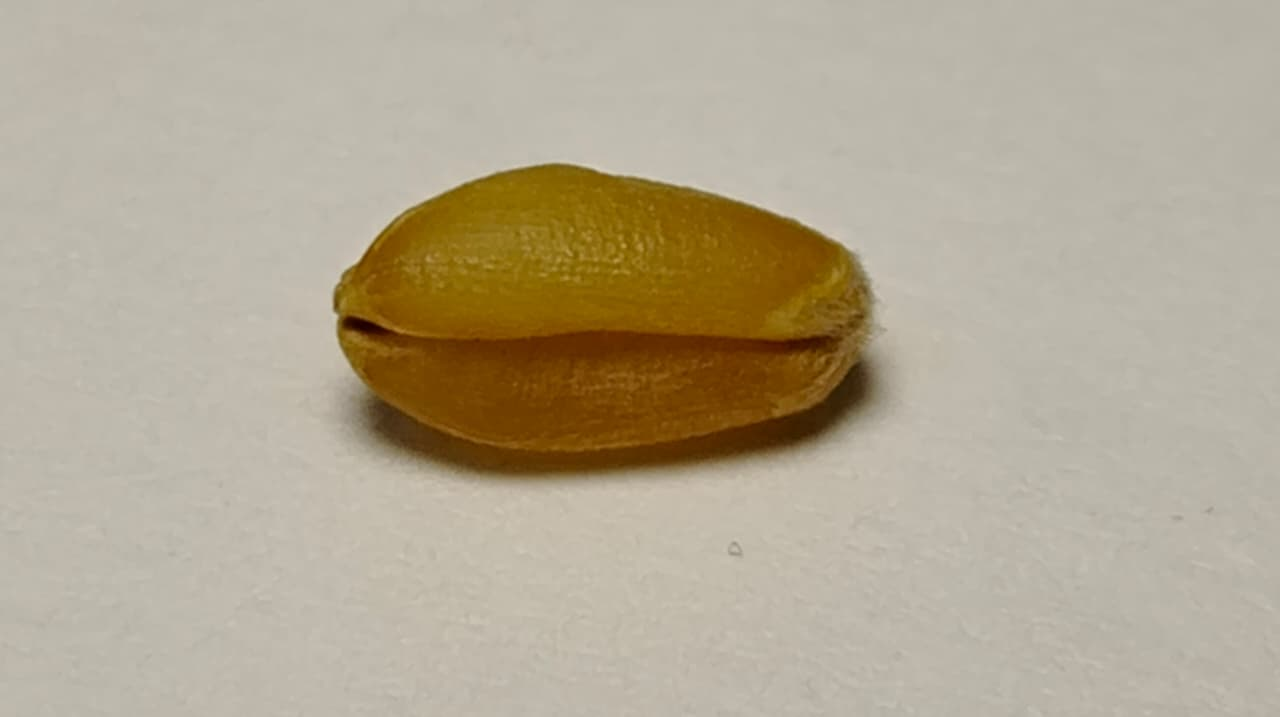healthy: (336, 164, 871, 449)
